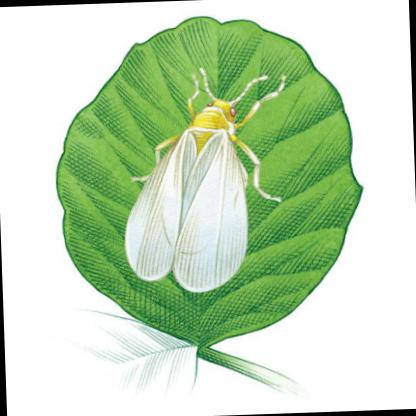whitefly: (124, 98, 248, 293)
